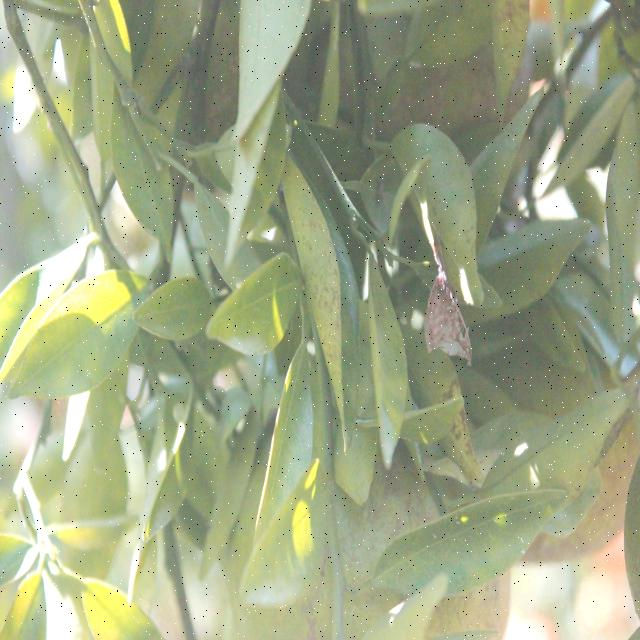melanose: (283, 174, 366, 438)
